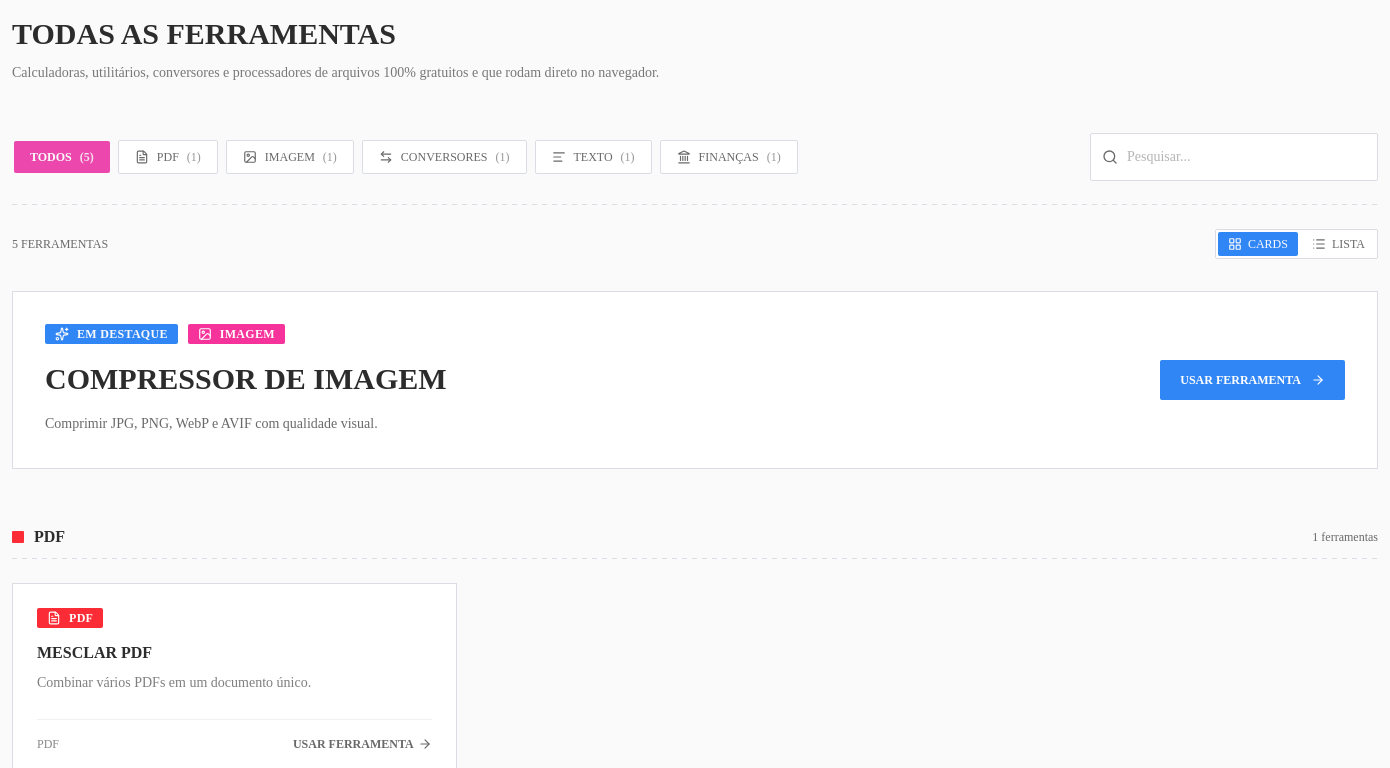
it: AppToolsHub › filters tools by search query in title or description
Type "Contador" into the field with placeholder "Pesquisar...".
click(1234, 157); type("Contador")  # box [1090, 133, 1378, 181]
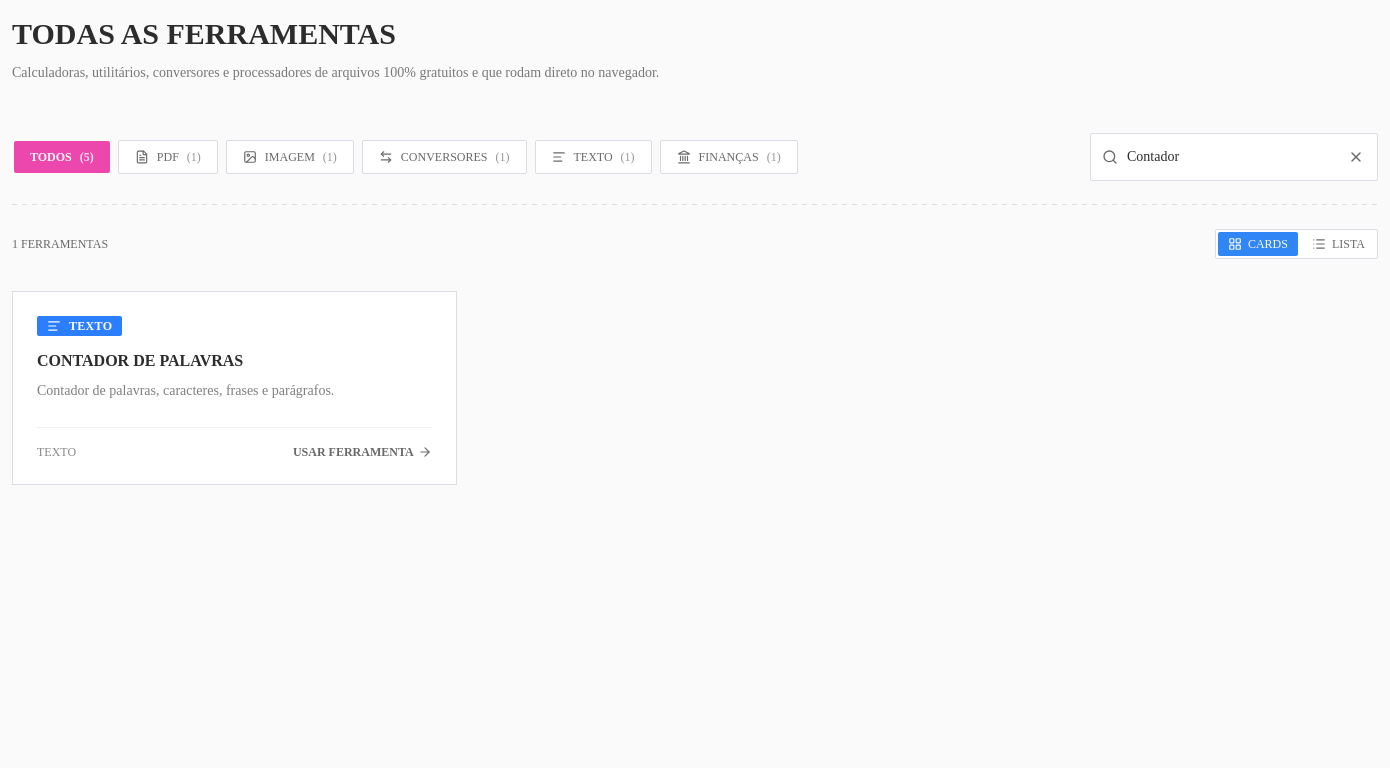
Expected: the heading "Contador de Palavras" is shown, [37, 352, 243, 369]
Result: the link "Mesclar PDF" is gone
